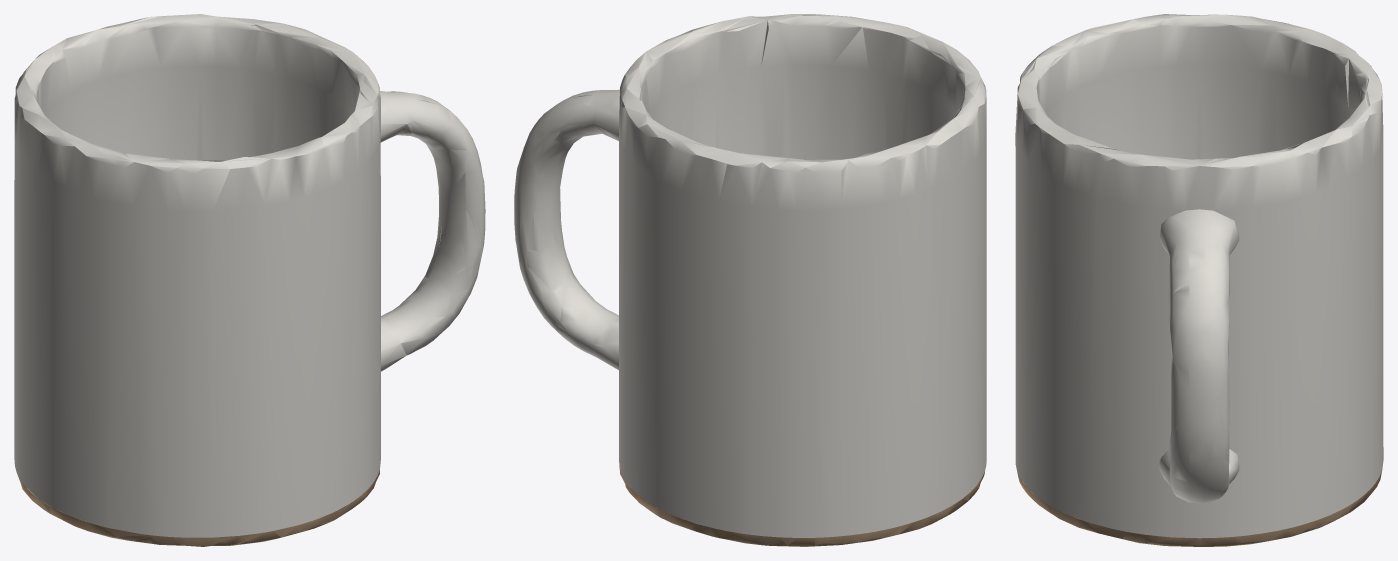
Rendered from simready-mug-ceramic.8f54bb5e.glb.
3 renders of one model, left to right at view 1: azimuth 30°, elevation 25°; view 2: azimuth 150°, elevation 25°; view 3: azimuth 270°, elevation 25°, orthographic.
Parts seen in each view (by area): view 1: model; view 2: model; view 3: model.
Boxes of the visible parts, left/top/right/bottom form: model: left=14, top=14, right=485, bottom=546; model: left=514, top=14, right=986, bottom=546; model: left=1015, top=14, right=1383, bottom=546.
Bounding box in the file's own units: 0.1106 × 0.0923 × 0.0797.
